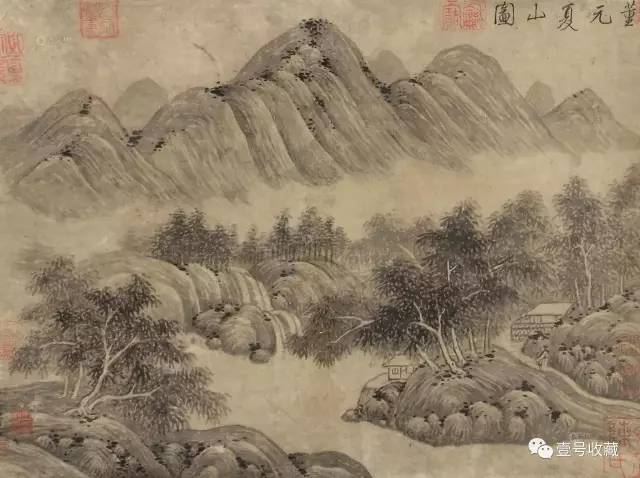house: (512, 302, 574, 341), (381, 356, 423, 384)
range: (6, 15, 640, 161), (73, 240, 396, 359)
river: (182, 340, 511, 478)
tree: (35, 290, 176, 422), (386, 258, 506, 376), (519, 202, 634, 293), (152, 214, 342, 256)
waterfall: (217, 259, 312, 354)
